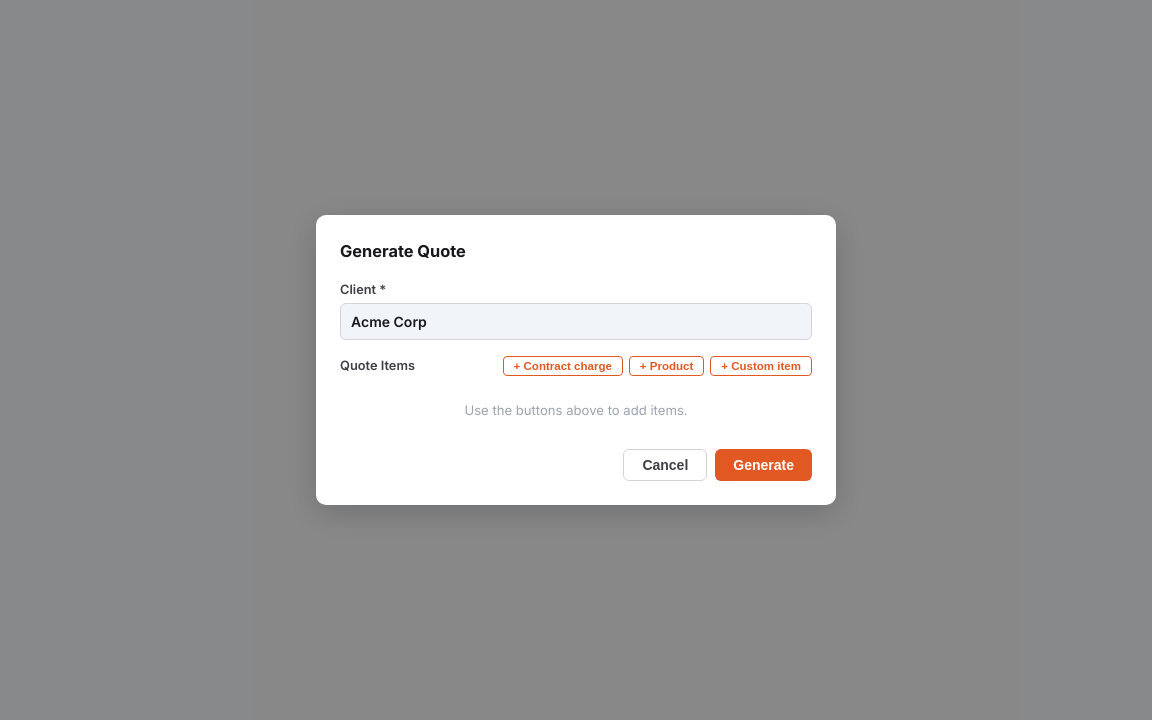
GenerateQuoteModal › rejects a fractional quantity for a stock-backed selection and never submits
Click the button titled "Add Product". click: (667, 366)
box: [629,356,704,376]
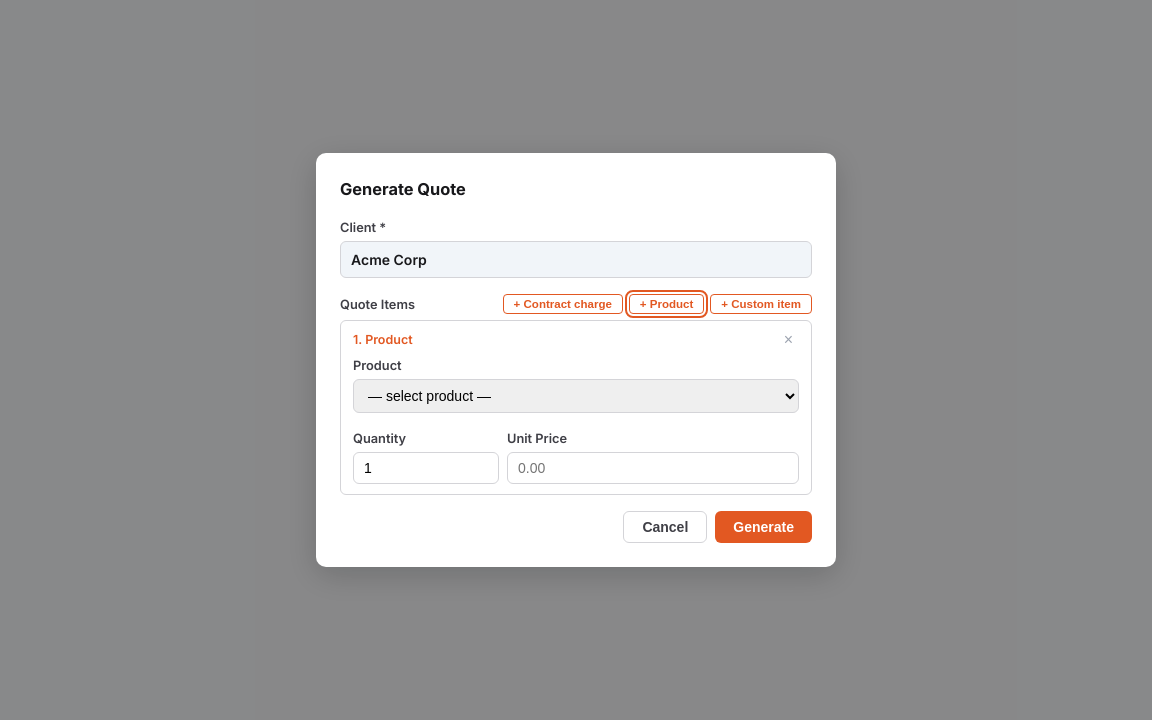
Select "Router rental (150.00)" in the dropdown named "Router rental". click: (576, 396)
box: [353,379,799,413]
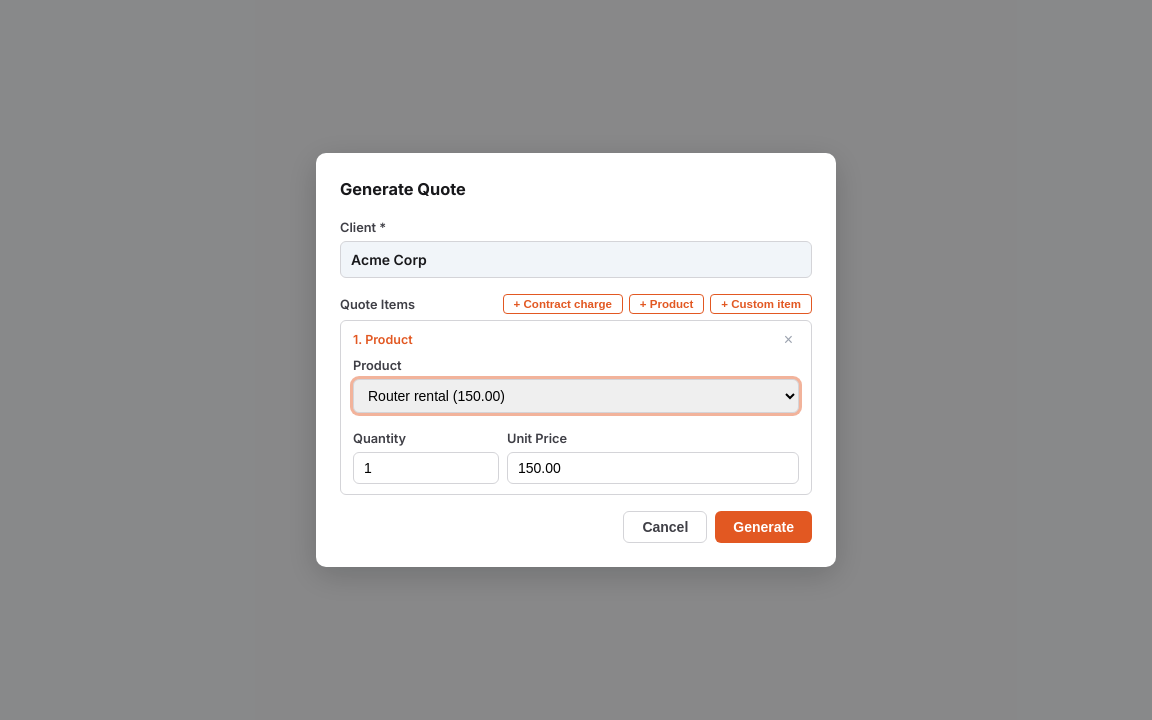
Replace the text in the number field showing "1" below "Quantity" with "1.5". click: (426, 468)
box: [353,452,499,484]
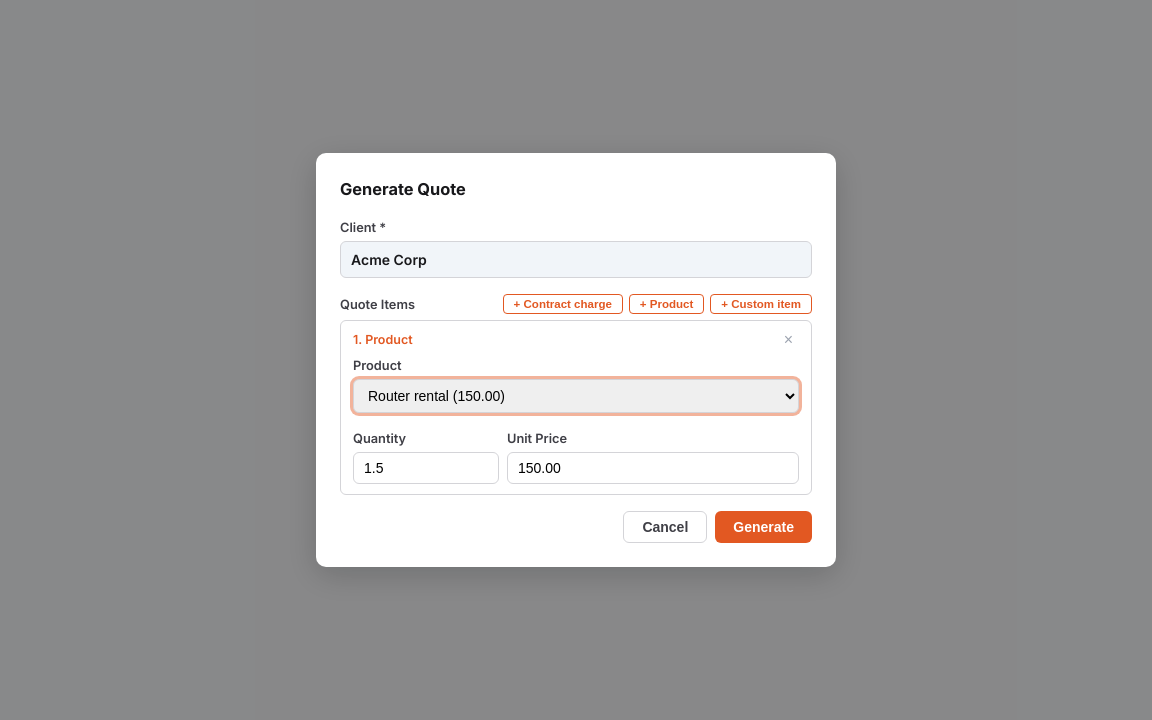
Submit the form showing "1", box [340,218,812,542]
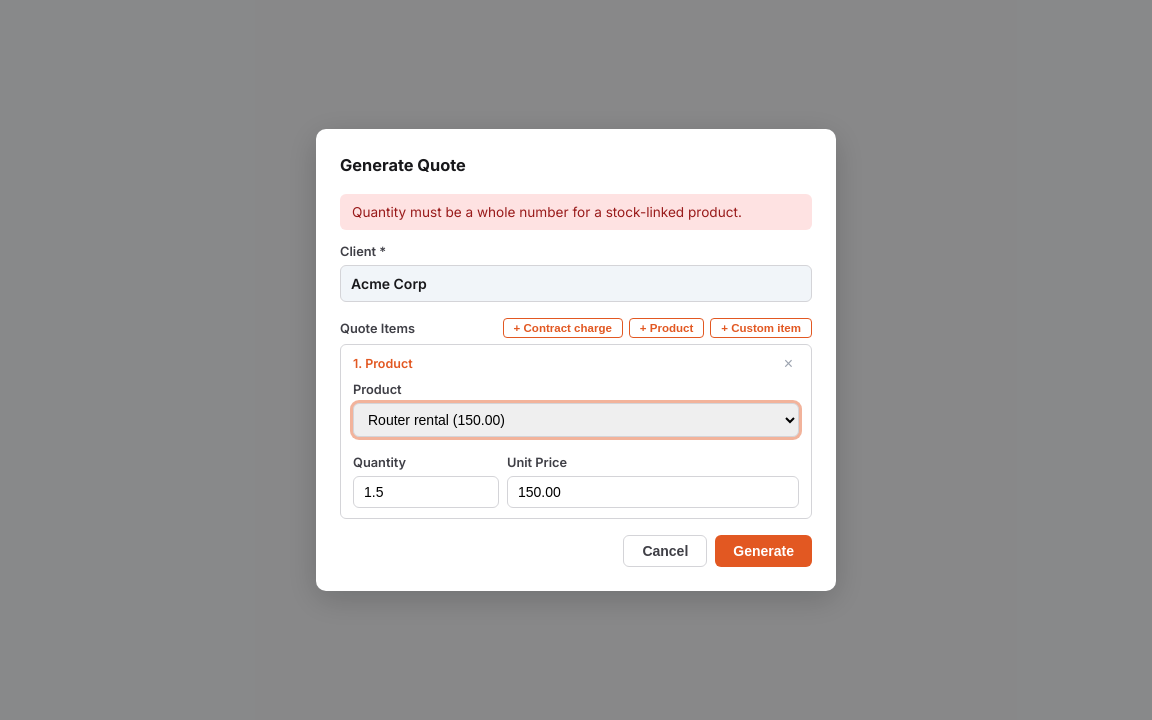
Now the text "Quantity must be a whole number for a stock-linked product." is shown, box [340,194,812,230]
